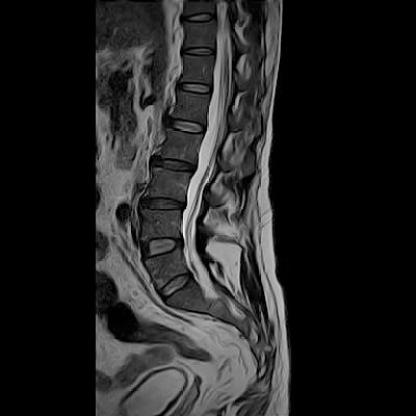Degenerative Disc Diseaserotation: (144, 196, 183, 214), (156, 157, 195, 175)
Disc Bulgerotation: (138, 236, 186, 256), (156, 157, 195, 175), (145, 196, 184, 213)
